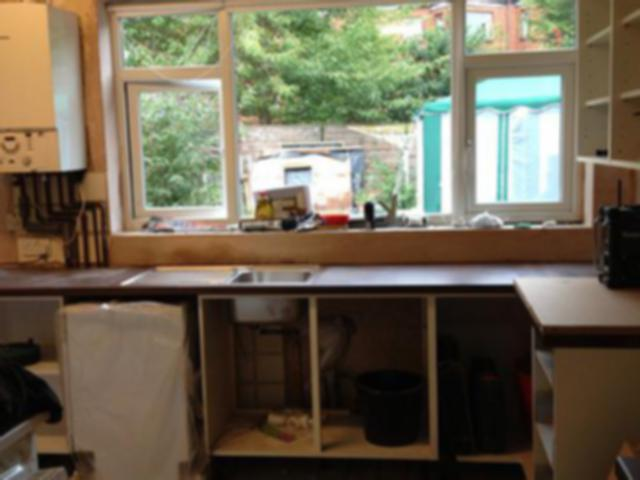Lavaplatos: (115, 251, 323, 329)
